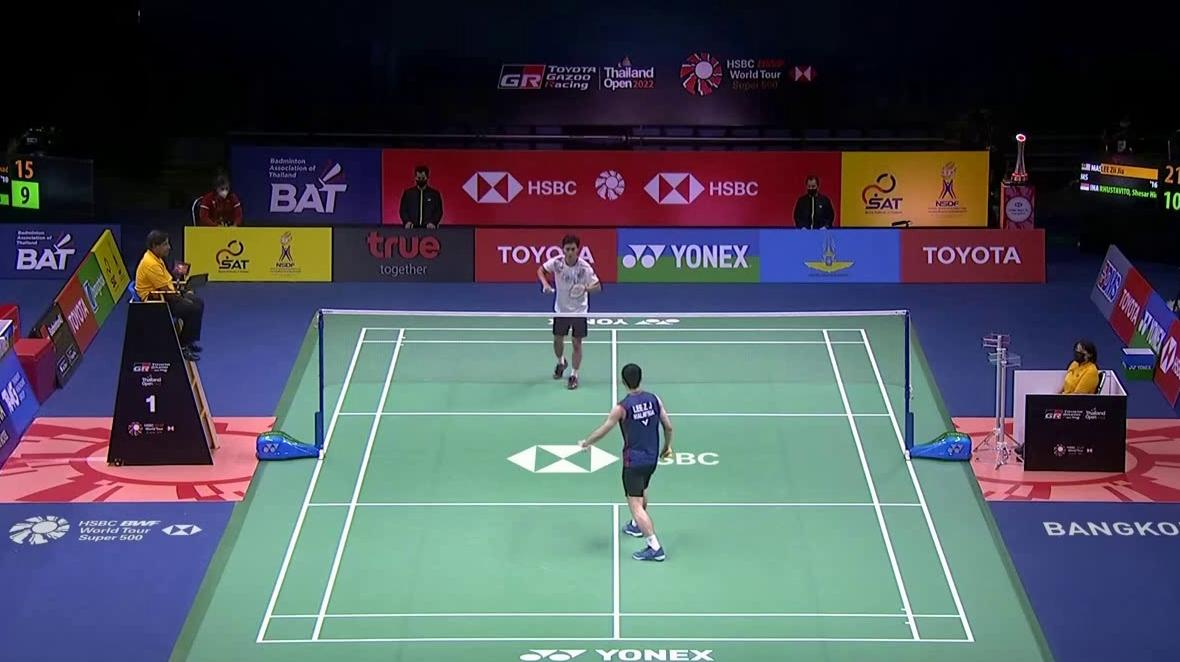racket: (543, 284, 587, 299)
shuttle: (577, 439, 589, 452)
